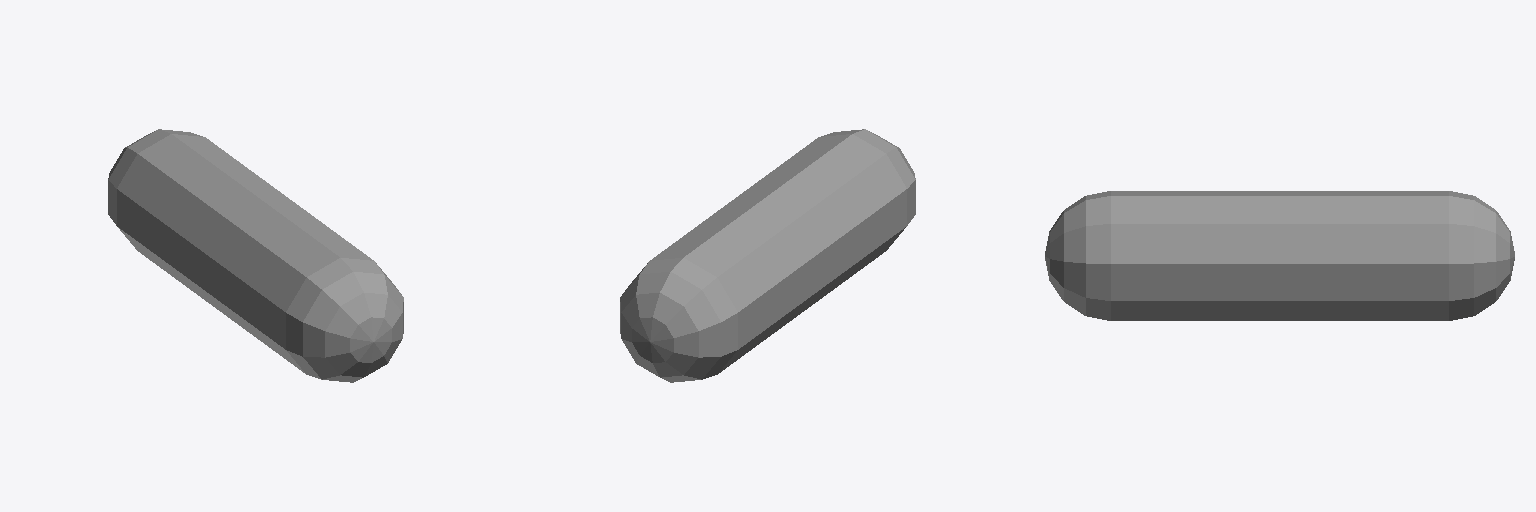
The model's file is Bullet.obj.
The picture shows the model from 3 angles: view 1: azimuth 30°, elevation 25°; view 2: azimuth 150°, elevation 25°; view 3: azimuth 270°, elevation 25°; orthographic projection.
Visible parts, largest first — view 1: Sphere; view 2: Sphere; view 3: Sphere.
Boxes of the visible parts, <box> form: Sphere: <box>108,129,403,382</box>; Sphere: <box>620,129,915,382</box>; Sphere: <box>1045,191,1514,320</box>.
Size of the model in its own units: 1.9 by 2 by 7.09.